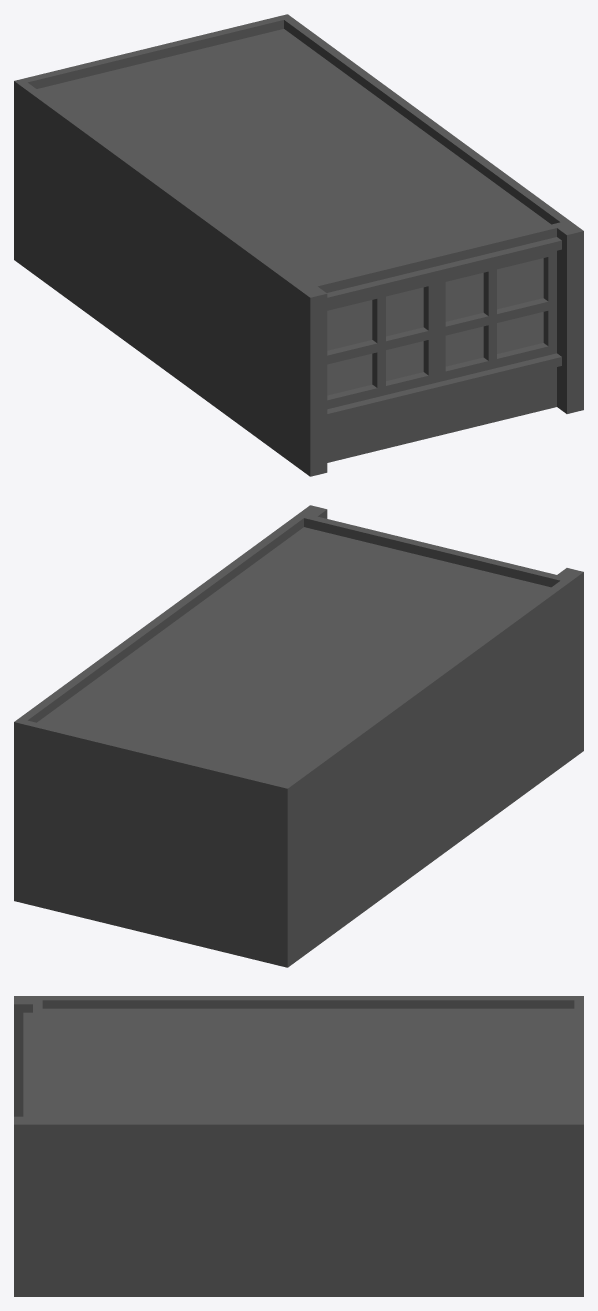
File: bld_story01a.obj
3 renders of one model, top to bottom at view 1: azimuth 30°, elevation 25°; view 2: azimuth 150°, elevation 25°; view 3: azimuth 270°, elevation 25°, orthographic. The views are drawn at different scales.
Bounding box in the file's own units: 32 × 20 × 60.
